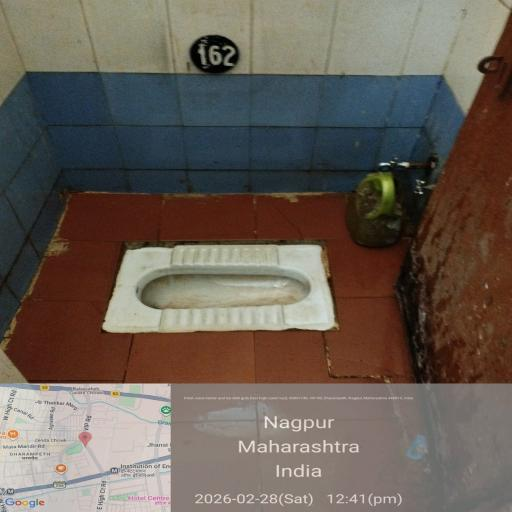partial_dirty_floor: (17, 6, 498, 206), (0, 339, 411, 504)
partial_dirty_indian: (78, 212, 371, 364)
